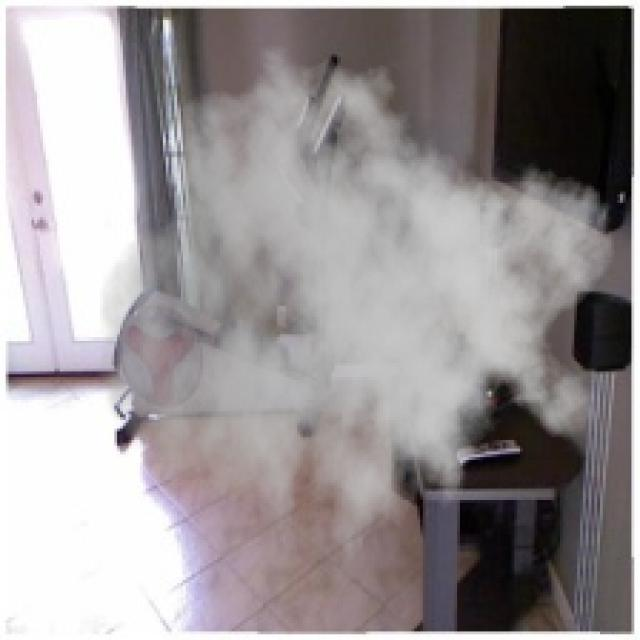Smoke: (97, 31, 617, 588)
